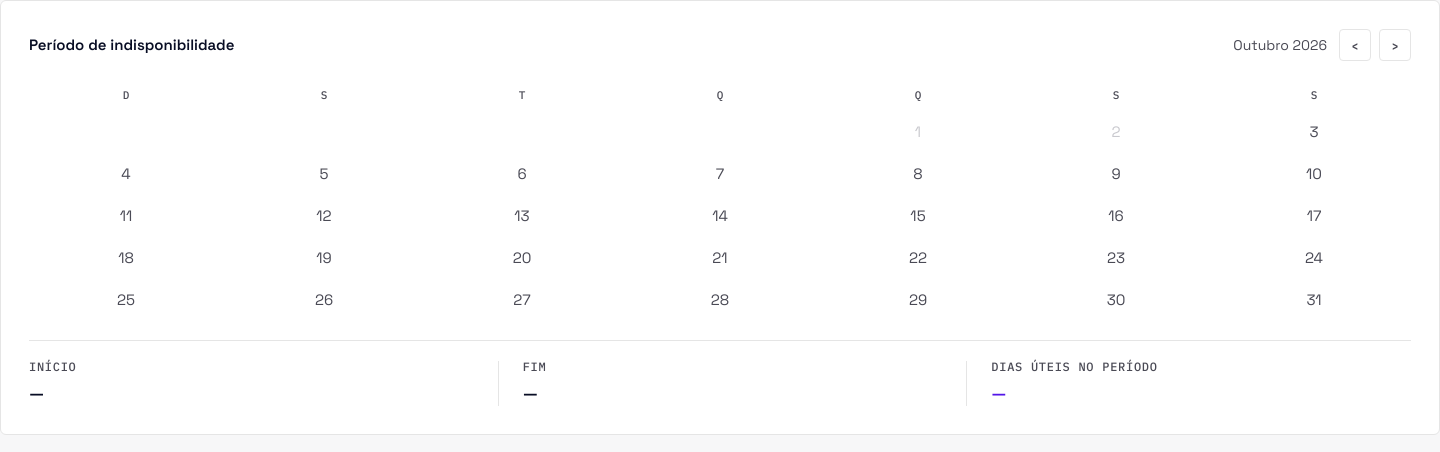
Test: DateRangePicker › permite intervalo cruzando meses pela navegação
Click the cell named "28 out 2026" at (720, 300), box [623, 282, 817, 320]
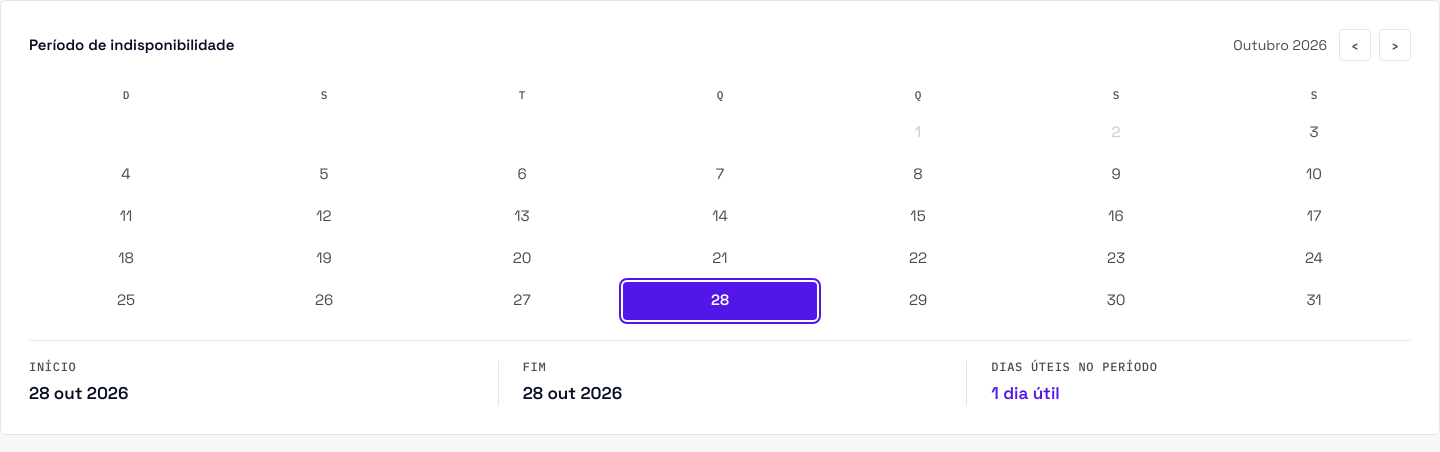
Click the button named "Próximo mês" at (1395, 45), box [1379, 29, 1411, 61]
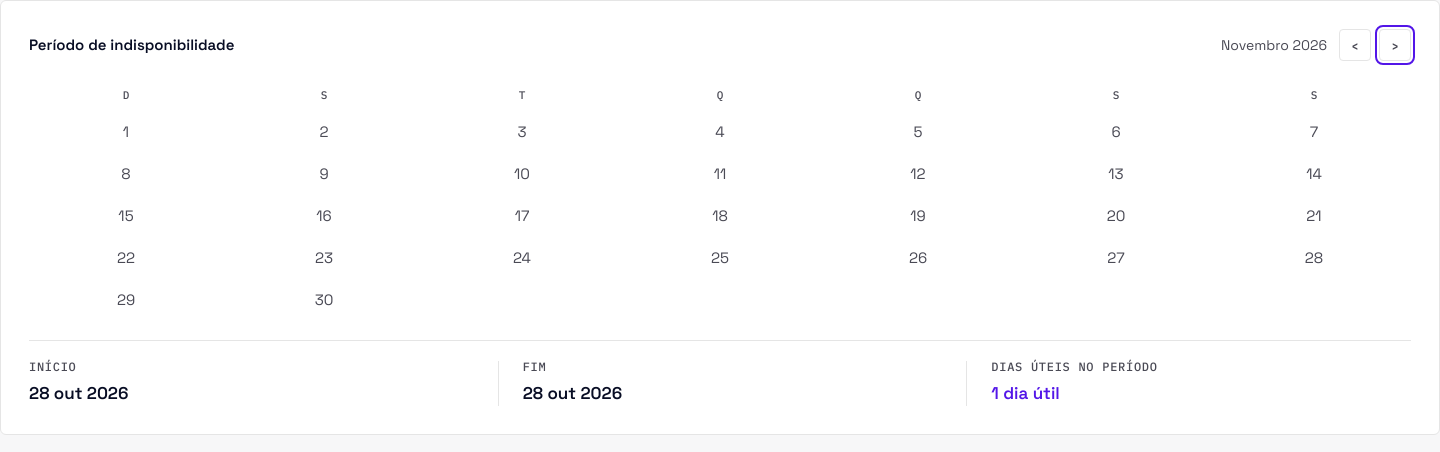
Expected: the text "Novembro 2026" is shown, [1221, 34, 1327, 56]
Click the cell named "03 nov 2026" at (522, 132), box [425, 114, 619, 152]
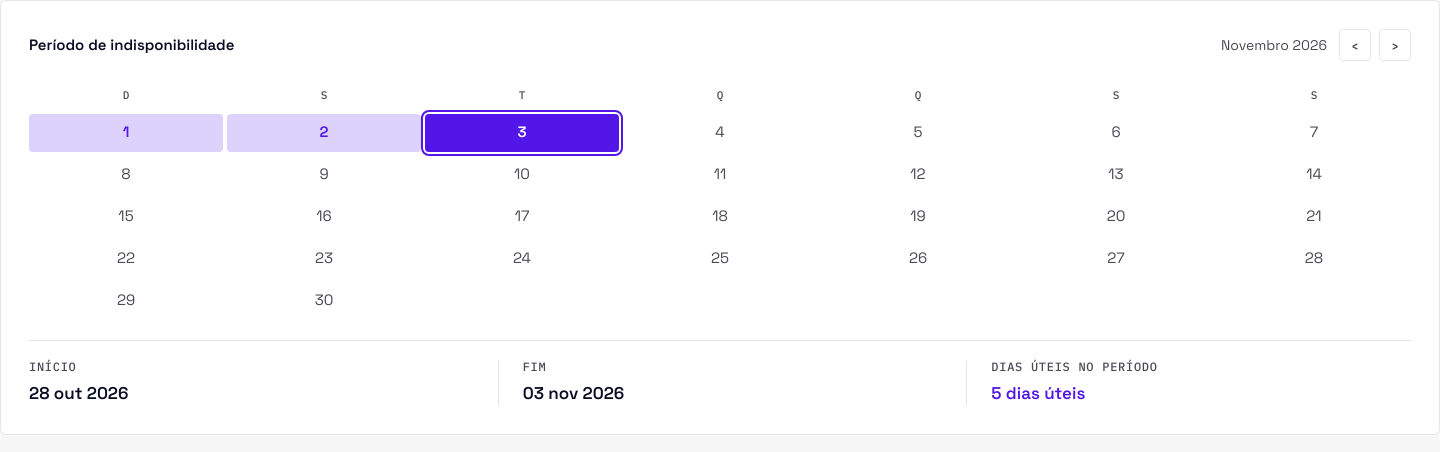
Expected: the text "28 out 2026" is shown, [29, 382, 128, 404]
Expected: the text "03 nov 2026" is shown, [523, 382, 624, 404]
Expected: the text "5 dias úteis" is shown, [991, 382, 1085, 404]
